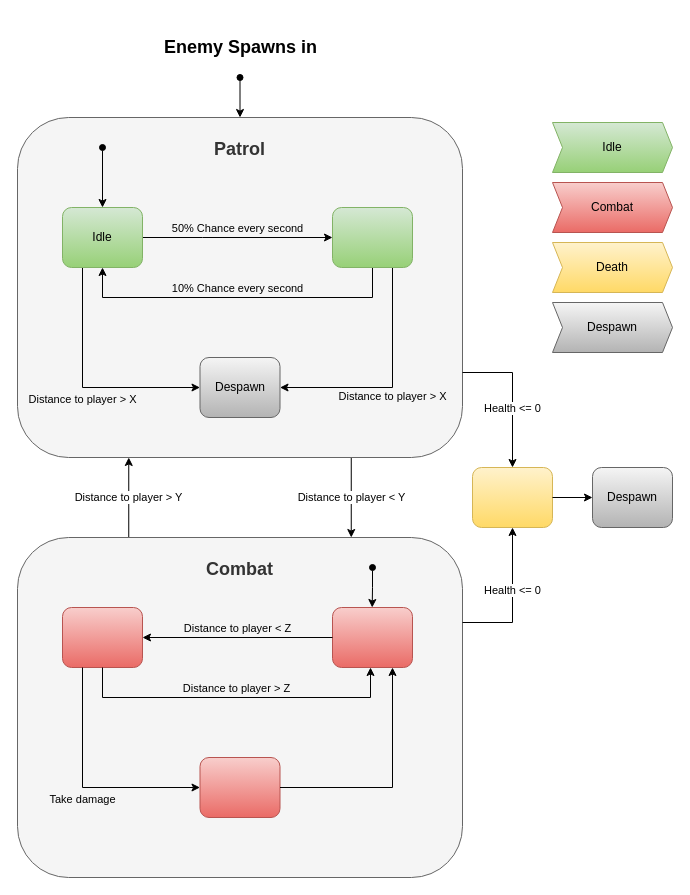
Image size: 690x895. Some labels were removed from this diagram. Each missing label, with the centre of its shape:
"Approach Player" belongs at point (372, 637).
"Attack" belongs at point (102, 637).
"Back up" belongs at point (239, 787).
"Die" belongs at point (512, 497).
"Walk" belongs at point (372, 237).
